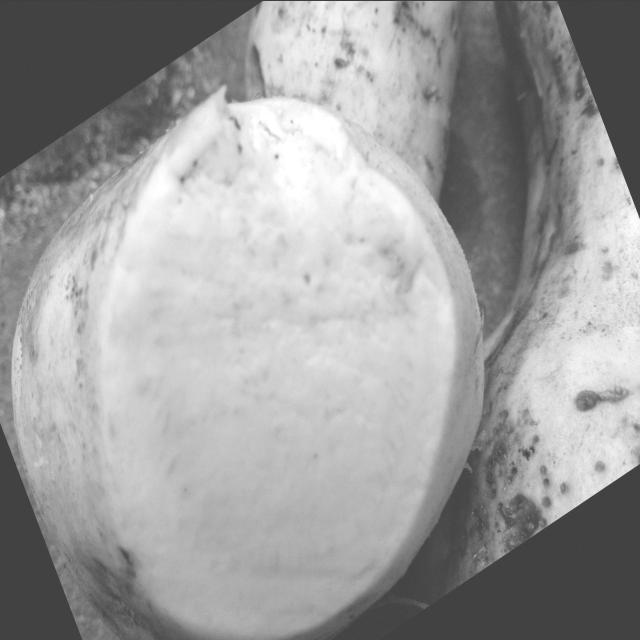Healthy Sweet Potato: (102, 92, 455, 637)
